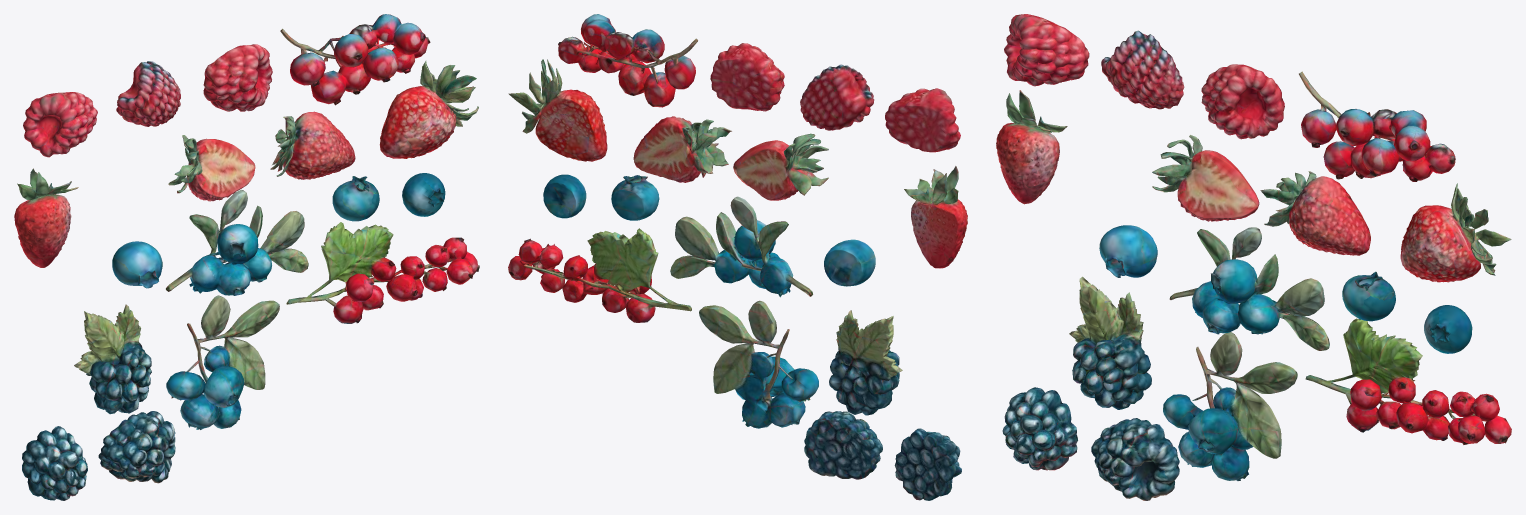
The picture shows the model from 3 angles, left to right: view 1: azimuth 30°, elevation 25°; view 2: azimuth 150°, elevation 25°; view 3: azimuth 330°, elevation 25°; orthographic projection. The views are drawn at different scales.
Visible parts, largest first — view 1: Mesh 17, Mesh 12, Mesh 13, Mesh 16, Mesh 19, Mesh 7, Mesh 8, Mesh 15, Mesh 2, Mesh 14, Mesh 11, Mesh 5 (+5 smaller); view 2: Mesh 12, Mesh 17, Mesh 13, Mesh 16, Mesh 7, Mesh 19, Mesh 15, Mesh 11, Mesh 8, Mesh 2, Mesh 14, Mesh 4 (+5 smaller); view 3: Mesh 17, Mesh 12, Mesh 13, Mesh 16, Mesh 7, Mesh 19, Mesh 15, Mesh 8, Mesh 11, Mesh 5, Mesh 14, Mesh 2 (+5 smaller).
Part boxes in pixels (left/top/right/bottom): Mesh 17: left=286, top=222, right=479, bottom=323; Mesh 12: left=166, top=295, right=279, bottom=429; Mesh 13: left=166, top=189, right=308, bottom=295; Mesh 16: left=280, top=14, right=430, bottom=105; Mesh 19: left=379, top=60, right=478, bottom=158; Mesh 7: left=74, top=304, right=151, bottom=414; Mesh 8: left=98, top=411, right=175, bottom=483; Mesh 15: left=270, top=111, right=355, bottom=179; Mesh 2: left=14, top=168, right=78, bottom=267; Mesh 14: left=203, top=44, right=272, bottom=111; Mesh 11: left=168, top=135, right=255, bottom=201; Mesh 5: left=22, top=426, right=87, bottom=500; Mesh 12: left=699, top=300, right=818, bottom=428; Mesh 17: left=508, top=228, right=691, bottom=322; Mesh 13: left=670, top=196, right=812, bottom=297; Mesh 16: left=558, top=14, right=697, bottom=107; Mesh 7: left=829, top=310, right=902, bottom=415; Mesh 19: left=508, top=59, right=607, bottom=161; Mesh 15: left=633, top=116, right=731, bottom=182; Mesh 11: left=733, top=133, right=828, bottom=200; Mesh 8: left=804, top=411, right=882, bottom=479; Mesh 2: left=904, top=166, right=967, bottom=268; Mesh 14: left=710, top=43, right=784, bottom=111; Mesh 4: left=885, top=88, right=960, bottom=152; Mesh 17: left=1305, top=318, right=1511, bottom=444; Mesh 12: left=1163, top=332, right=1297, bottom=480; Mesh 13: left=1169, top=227, right=1329, bottom=350; Mesh 16: left=1299, top=71, right=1455, bottom=181; Mesh 7: left=1069, top=276, right=1151, bottom=409; Mesh 19: left=1400, top=183, right=1511, bottom=282; Mesh 15: left=1260, top=171, right=1370, bottom=255; Mesh 8: left=1091, top=418, right=1179, bottom=500; Mesh 11: left=1152, top=135, right=1259, bottom=221; Mesh 5: left=1002, top=387, right=1077, bottom=470; Mesh 14: left=1201, top=64, right=1284, bottom=139; Mesh 2: left=996, top=90, right=1067, bottom=204.
Size of the model in its own units: 1.88 by 1.63 by 0.1933.
17 materials, 17 textured.
